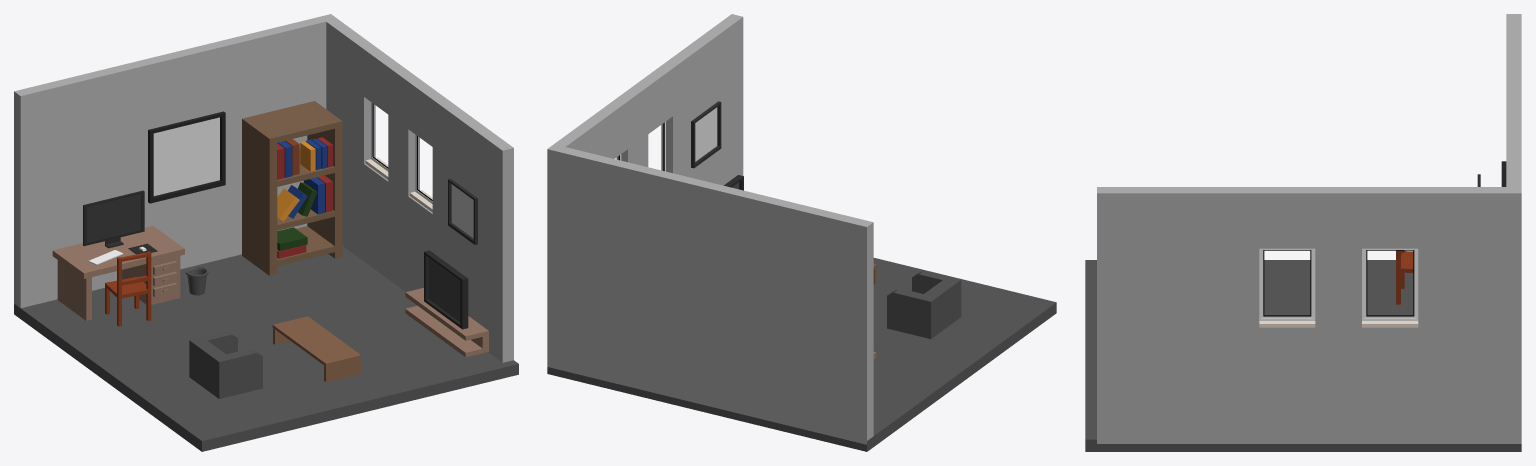
Rendered from lowpoly_room.glb.
3 views of the same model, side by side, from view 1: azimuth 30°, elevation 25°; view 2: azimuth 150°, elevation 25°; view 3: azimuth 270°, elevation 25° (orthographic). The views are drawn at different scales.
Parts seen in each view (by area): view 1: Room_4, Cube.029_37, Cube.001_5, Cube.007_11, Cube.006_10, Cube.005_9, Cube.004_8, Cube.009_13, Cube.003_7, Cube.002_6, Cube.008_12, Cube.028_32 (+2 smaller); view 2: Room_4, Cube.029_37, Cube.005_9, Cube.028_32; view 3: Room_4, Cube.029_37, Window_0, Window.001_2, Cube.008_12.
Boxes of the visible parts, x1,y1,x2,y2 form: Room_4: (14, 14, 513, 362); Cube.029_37: (14, 246, 518, 451); Cube.001_5: (242, 101, 342, 275); Cube.007_11: (52, 225, 184, 320); Cube.006_10: (148, 111, 225, 203); Cube.005_9: (189, 331, 262, 398); Cube.004_8: (272, 316, 361, 381); Cube.009_13: (83, 190, 144, 246); Cube.003_7: (424, 250, 468, 329); Cube.002_6: (405, 288, 488, 357); Cube.008_12: (105, 251, 151, 326); Cube.028_32: (448, 178, 477, 244); Room_4: (547, 14, 873, 444); Cube.029_37: (547, 258, 1056, 451); Cube.005_9: (887, 271, 961, 338); Cube.028_32: (691, 101, 721, 168); Room_4: (1097, 14, 1521, 443); Cube.029_37: (1085, 260, 1521, 451); Window_0: (1259, 248, 1315, 327); Window.001_2: (1362, 248, 1418, 327); Cube.008_12: (1396, 250, 1413, 304).
Size of the model in its own units: 4.18 by 2.79 by 4.27.
